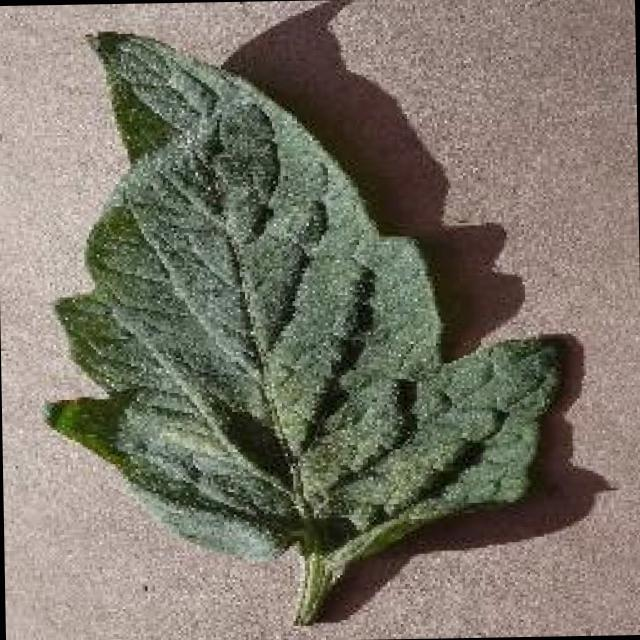Tomato spider mites leaf: (38, 19, 569, 570)
